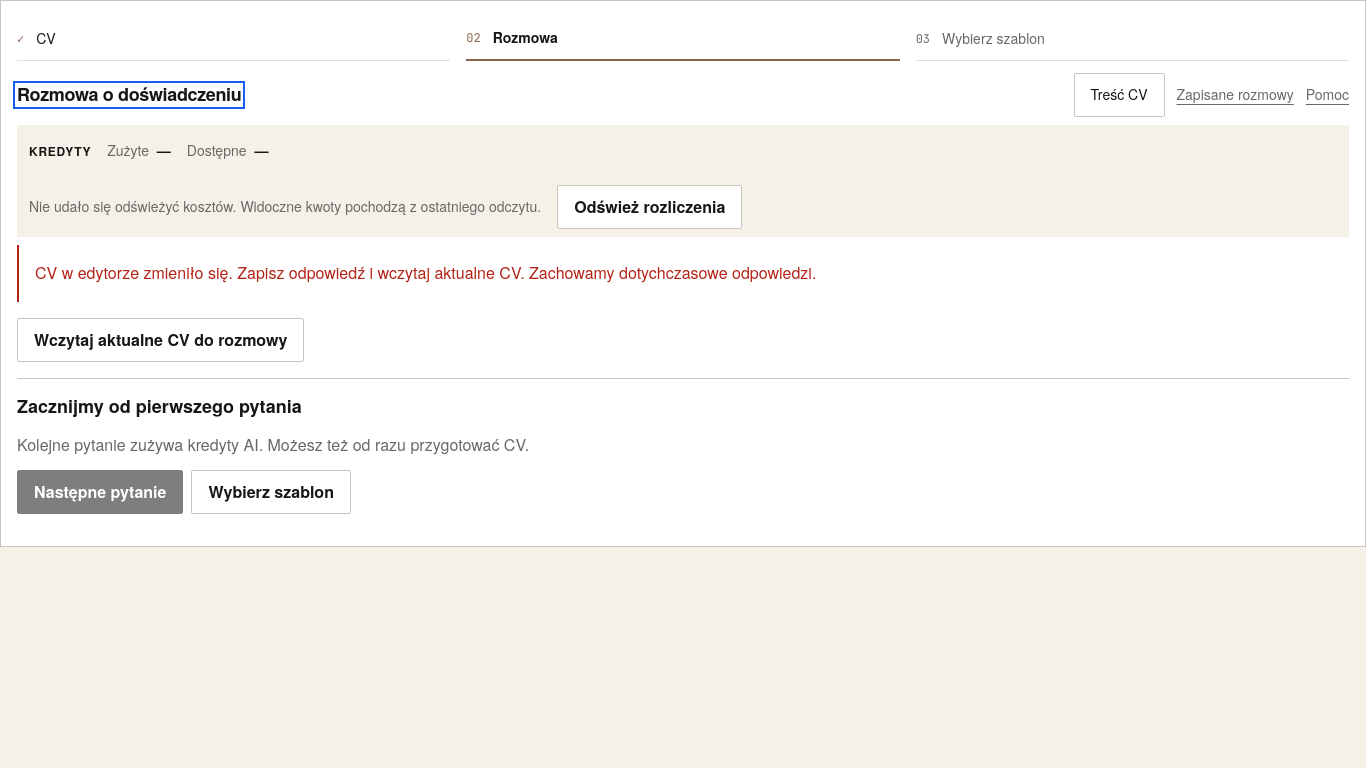
Test: interview workflow › blocks generation when the source changes
Click the button "Wybierz szablon". click: {"x": 271, "y": 492}
box: 191,470 -> 351,514
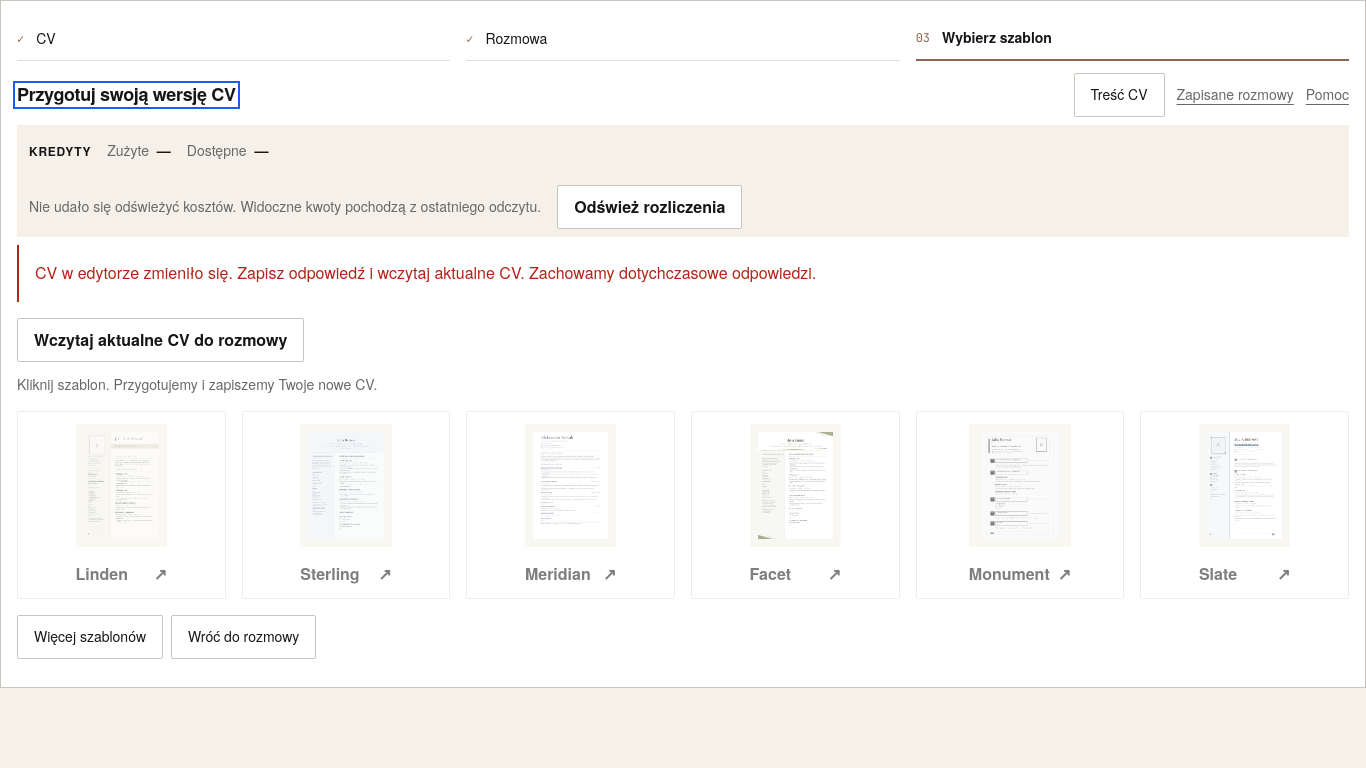
Now the button with aria-label "Utwórz CV · Linden" is disabled, box 17,412 -> 226,599
